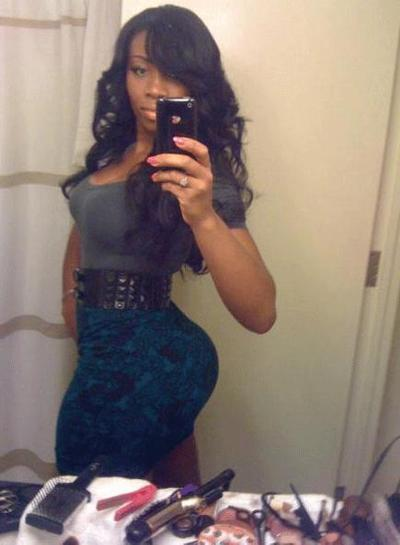person: (55, 6, 278, 486)
